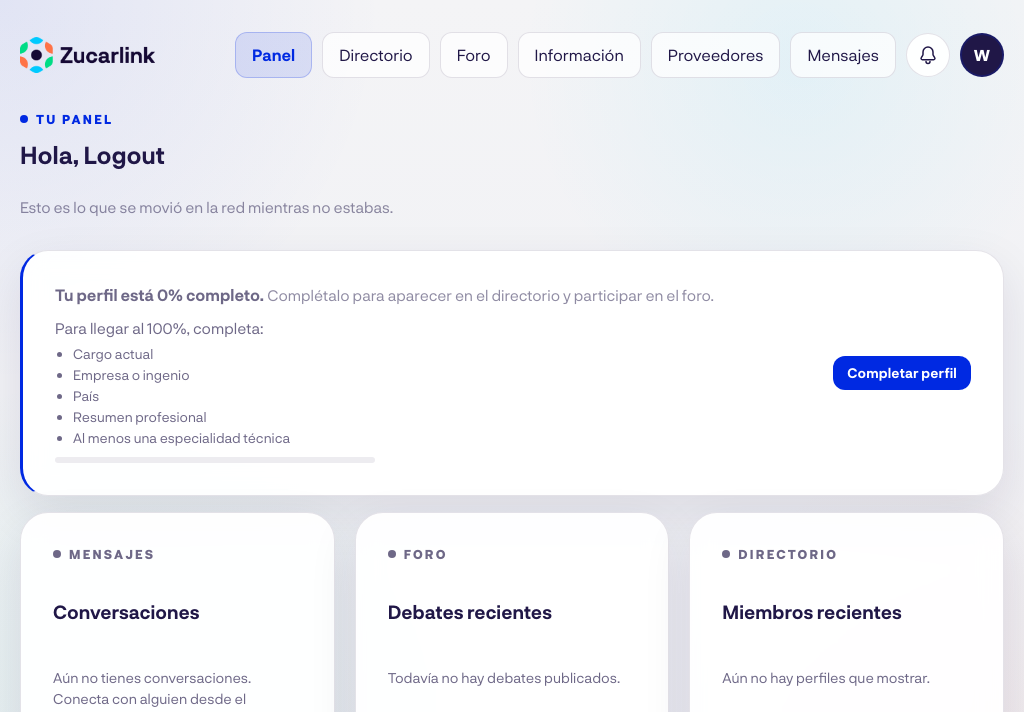
Test: logs out from the private layout and returns home
Expected: the heading "Hola, Logout" is shown, [20,140,165,169]
Click the button named "Menú de usuario" at [982, 55], box [960,33,1004,77]
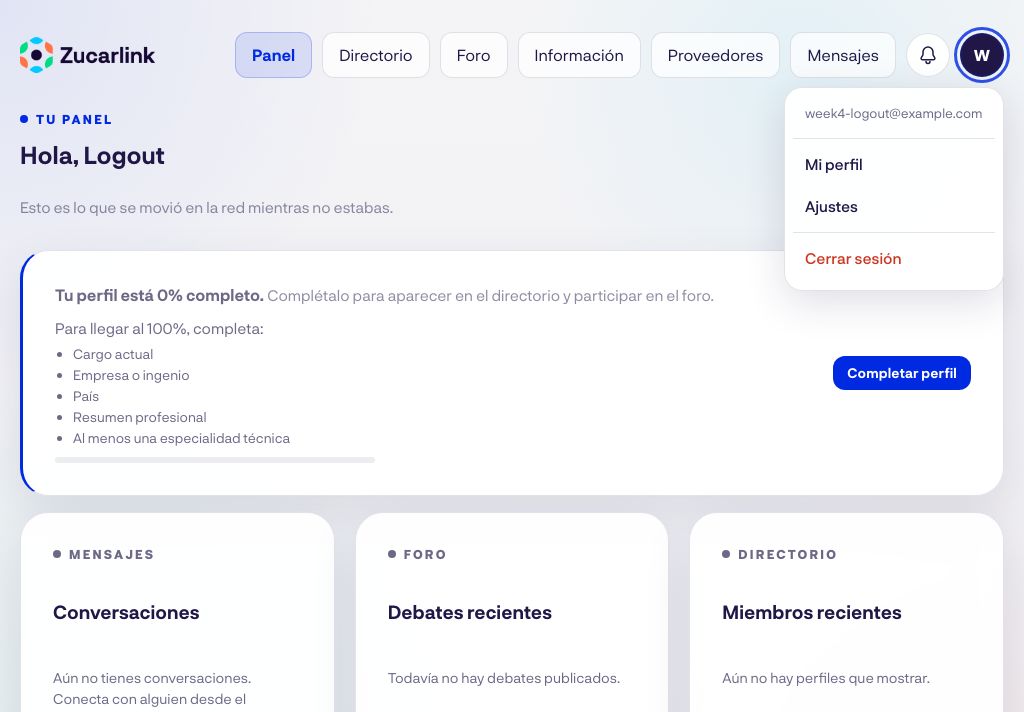
Click the menu item "Cerrar sesión" at [894, 259], box [793,237,995,280]
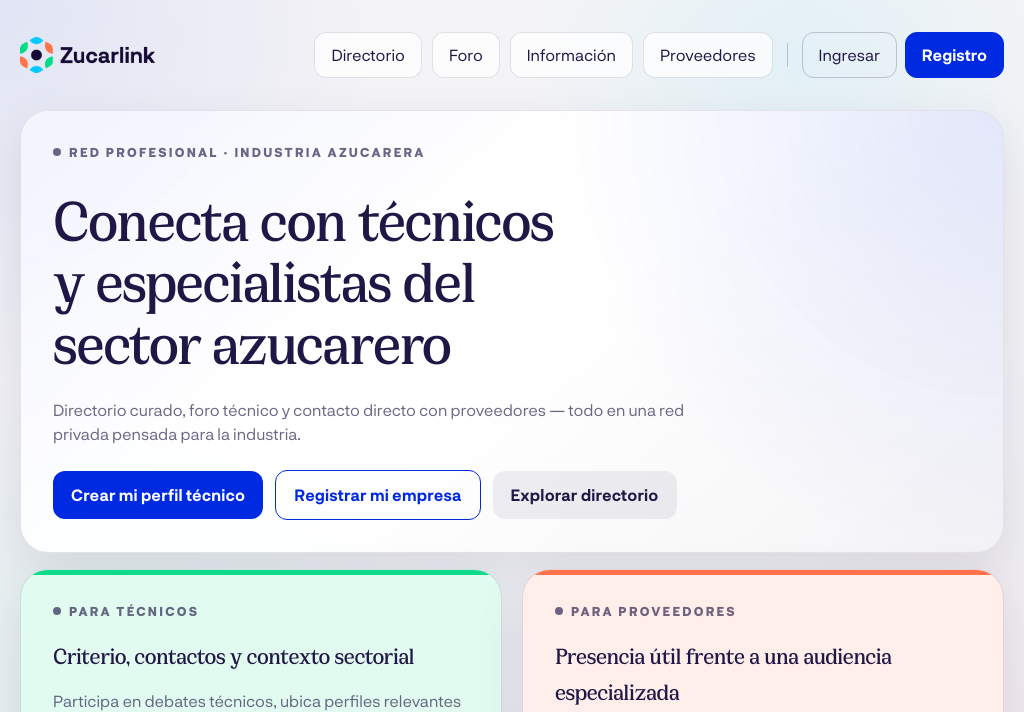
Now the heading "Conecta con técnicos y especialistas del sector azucarero" is shown, box [53,186,565,370]
